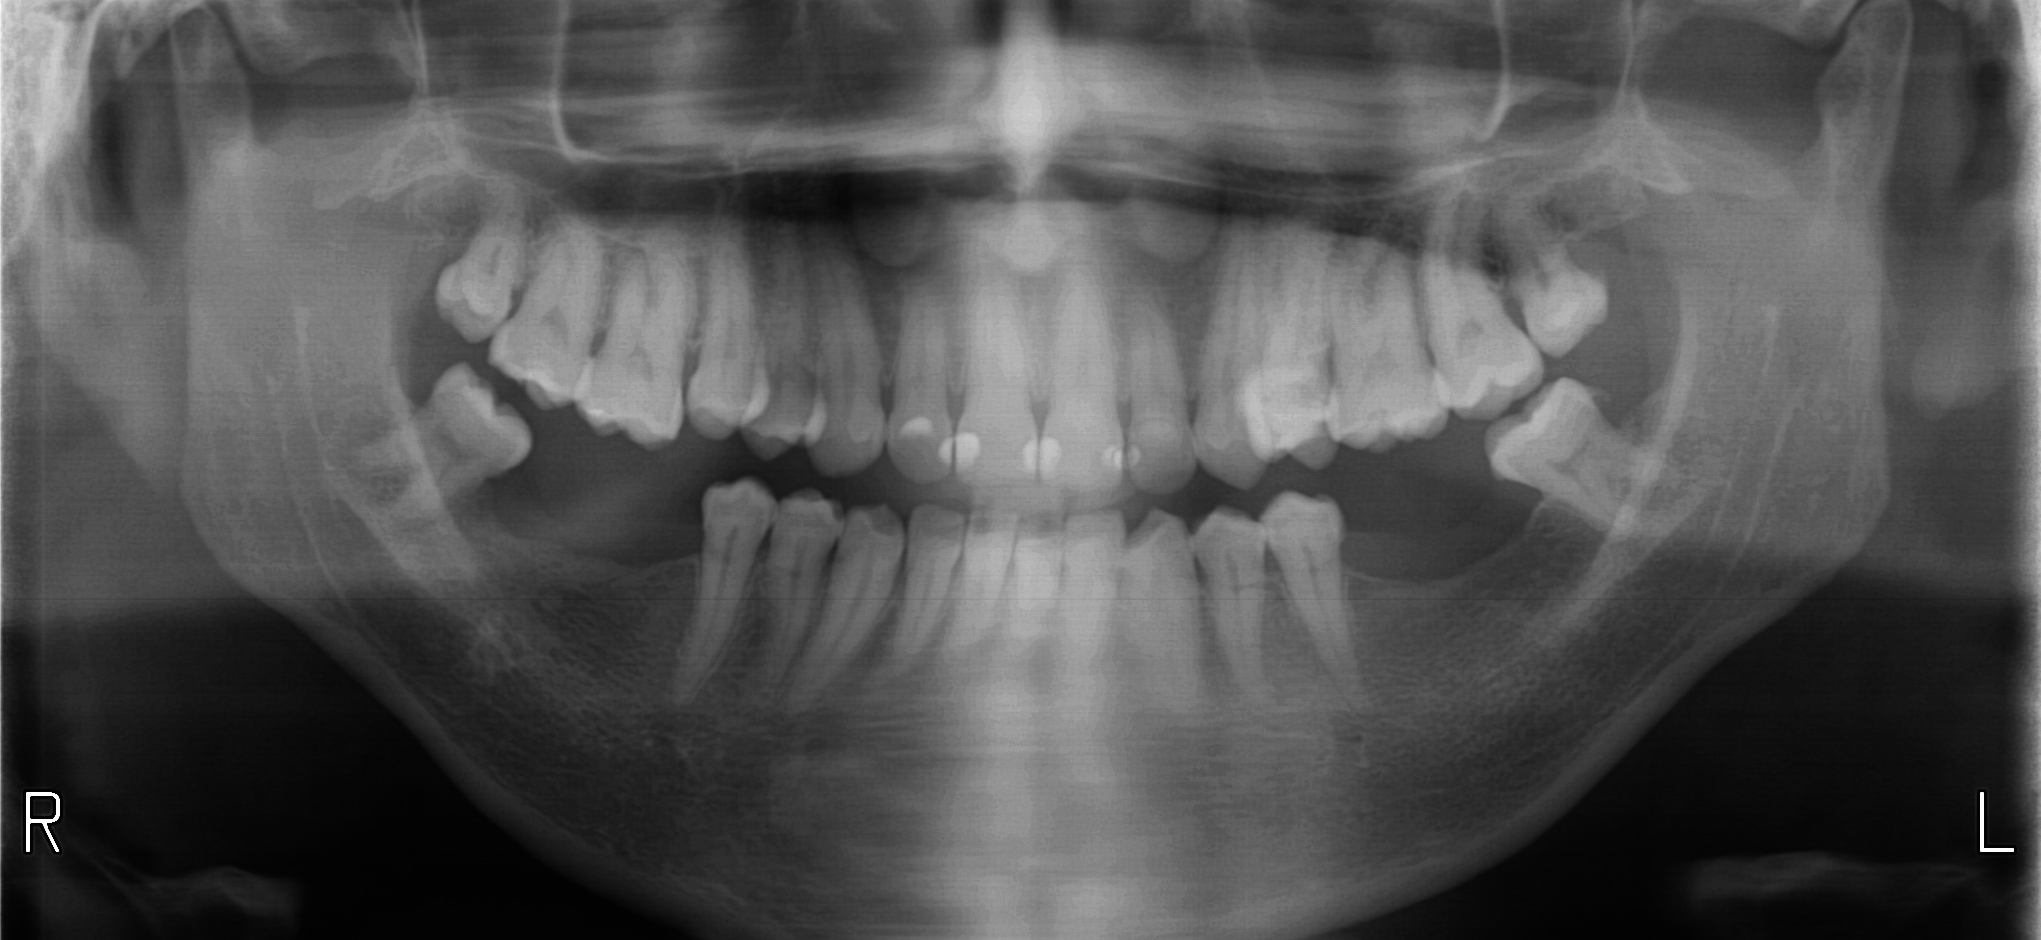cavity: (1238, 581, 1257, 583)
